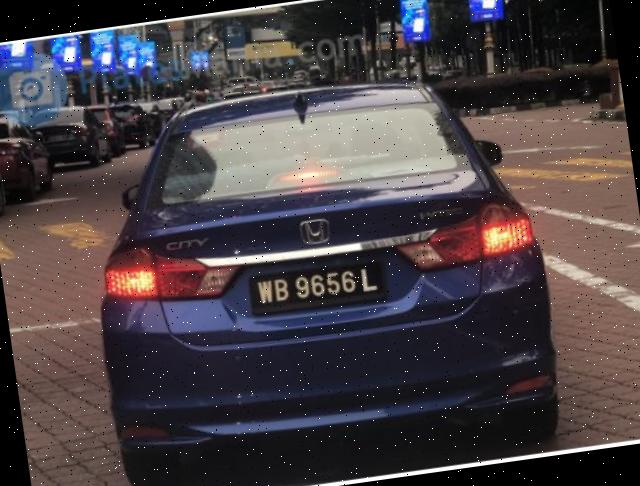License_Plate: (249, 255, 395, 325)
car: (63, 49, 569, 486)
